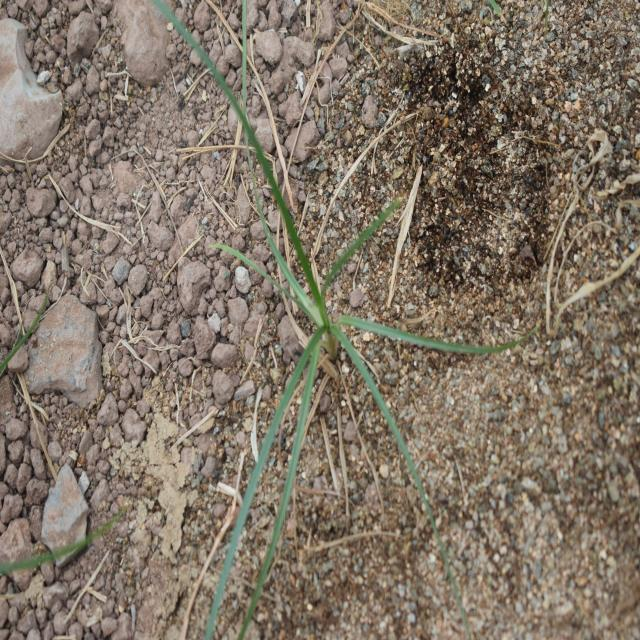sedge: (173, 68, 487, 550)
